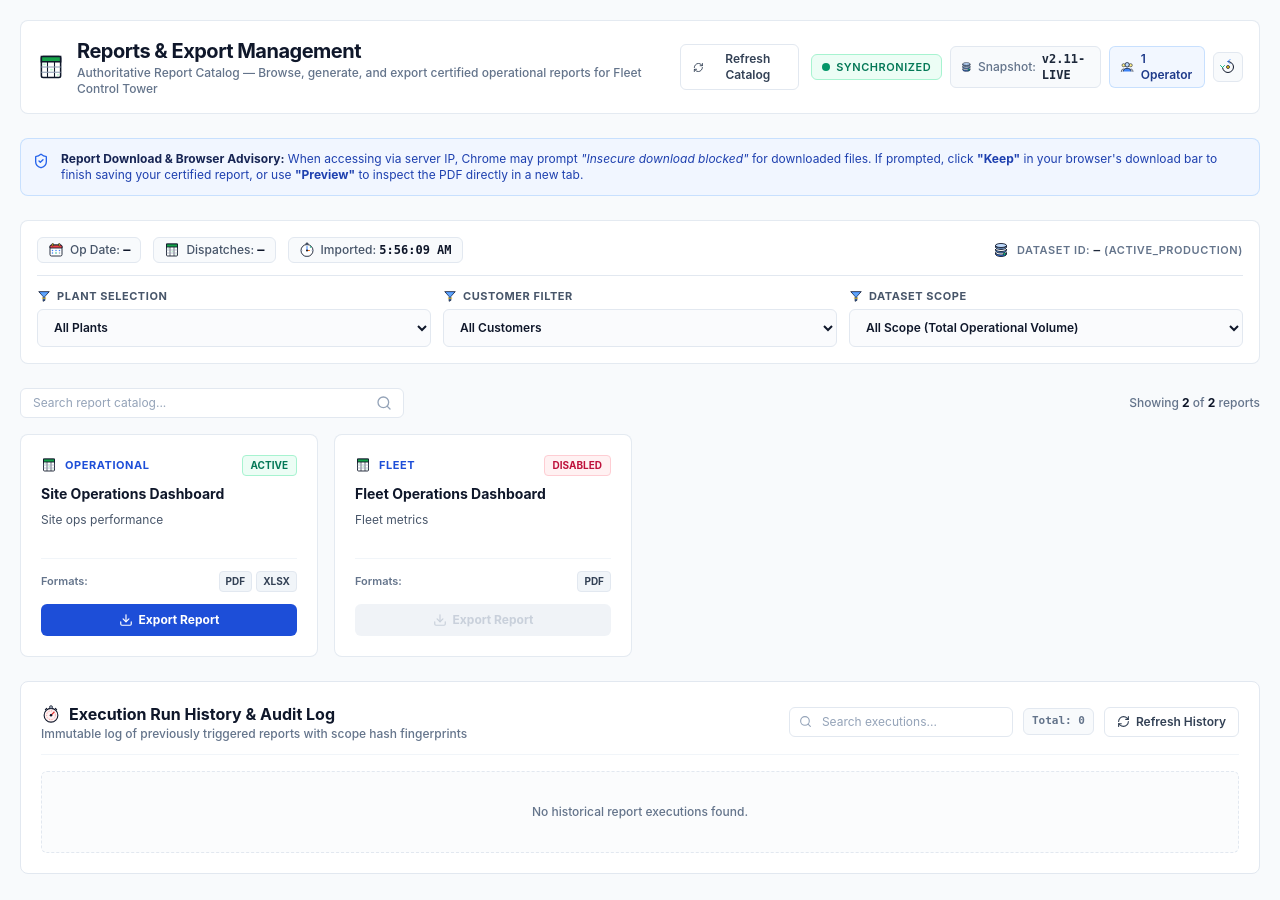
WS6.1 - Reports Management Workspace & Catalog Suite › 2. filters catalog grid based on search query
Expected: the heading "Site Operations Dashboard" is shown, [41,484,224,502]
Type "Site" into the field with test id "catalog-search-input".
click(212, 402); type("Site")  # box [20,388,404,418]
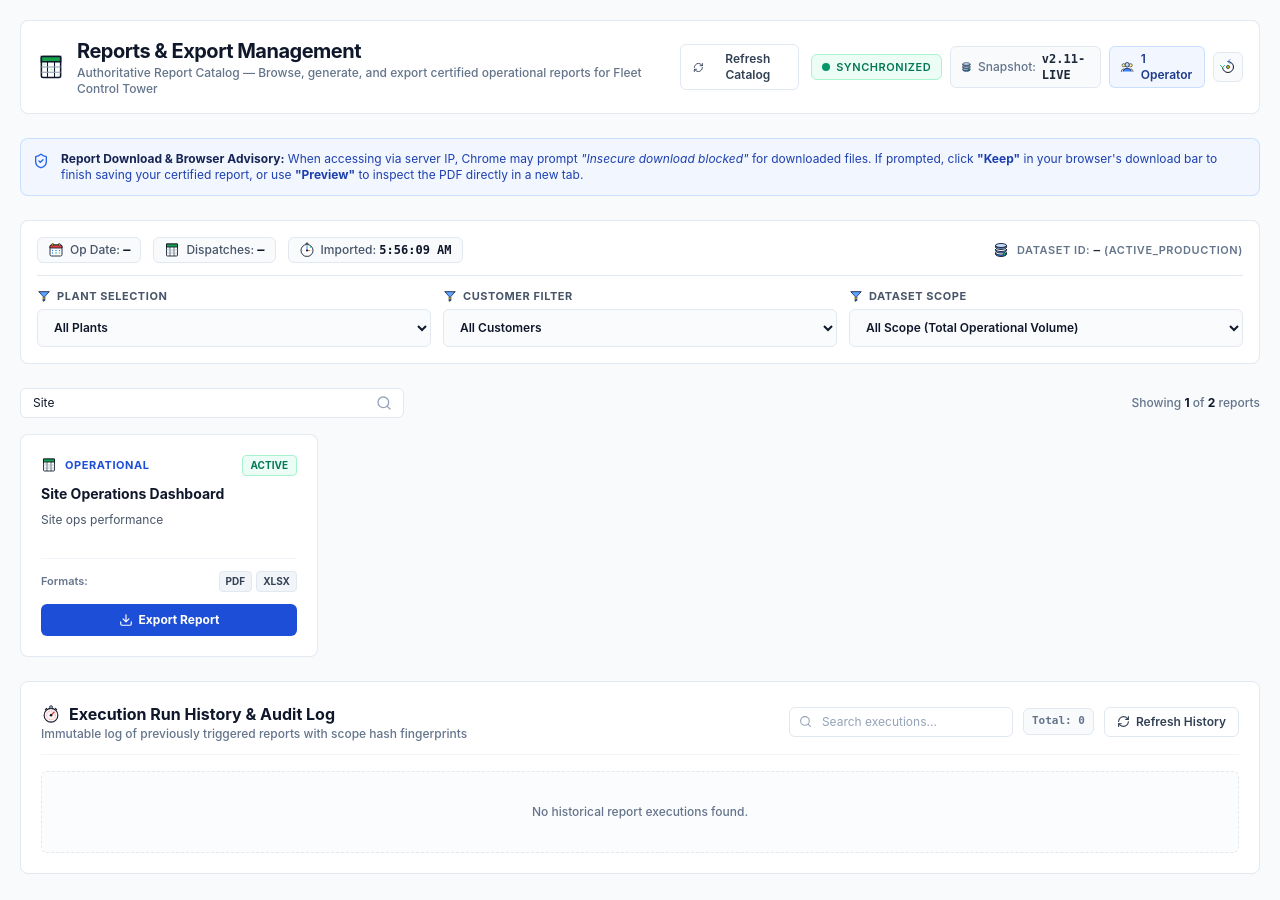
Expected: the heading "Site Operations Dashboard" is shown, [41,484,224,502]
Now the heading "Fleet Operations Dashboard" is gone
